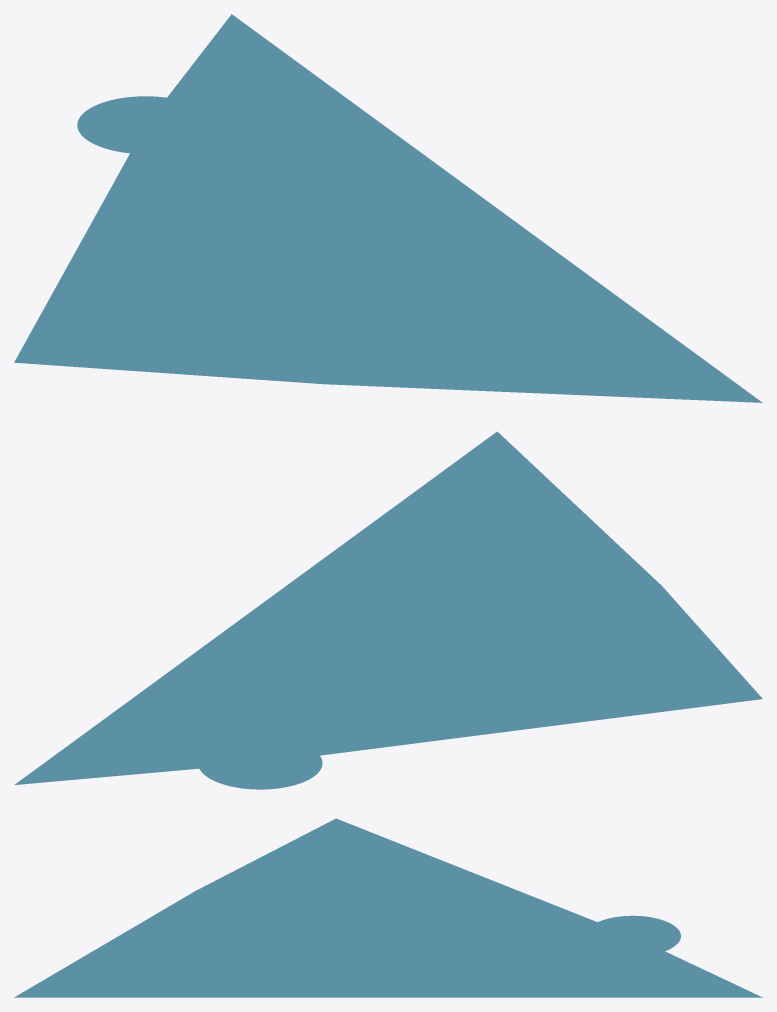
File: tile_-19_1.glb
3 views of the same model, one above another, from view 1: azimuth 30°, elevation 25°; view 2: azimuth 150°, elevation 25°; view 3: azimuth 270°, elevation 25° (orthographic). The views are drawn at different scales.
Visible parts, largest first — view 1: nature_water; view 2: nature_water; view 3: nature_water.
Boxes of the visible parts, <box> form: nature_water: <box>14,14,762,402</box>; nature_water: <box>14,431,762,789</box>; nature_water: <box>14,818,762,997</box>.
Bounding box in the file's own units: 61.45 × 0 × 109.
